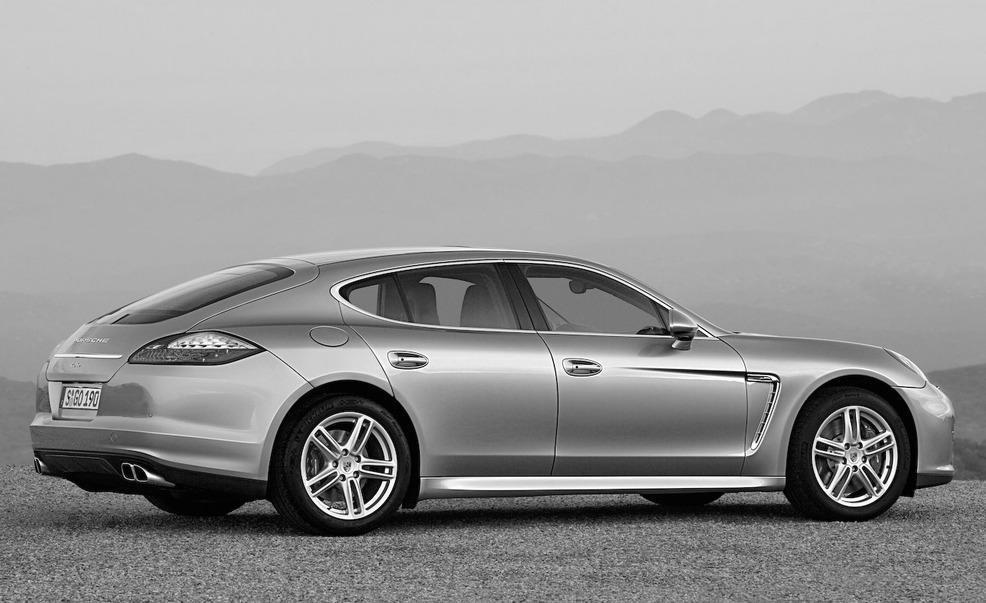car: (28, 248, 961, 520)
